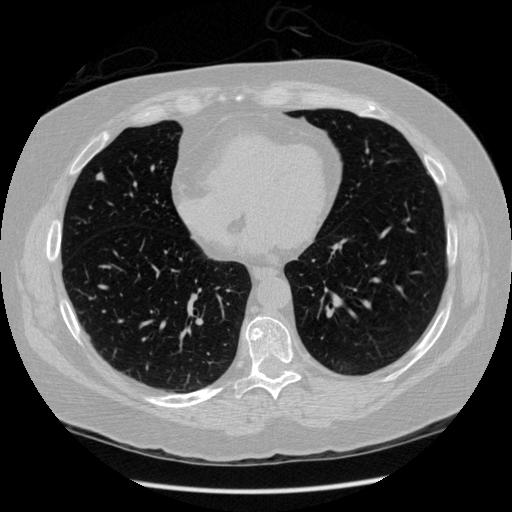nodule: (93, 170, 107, 184)
